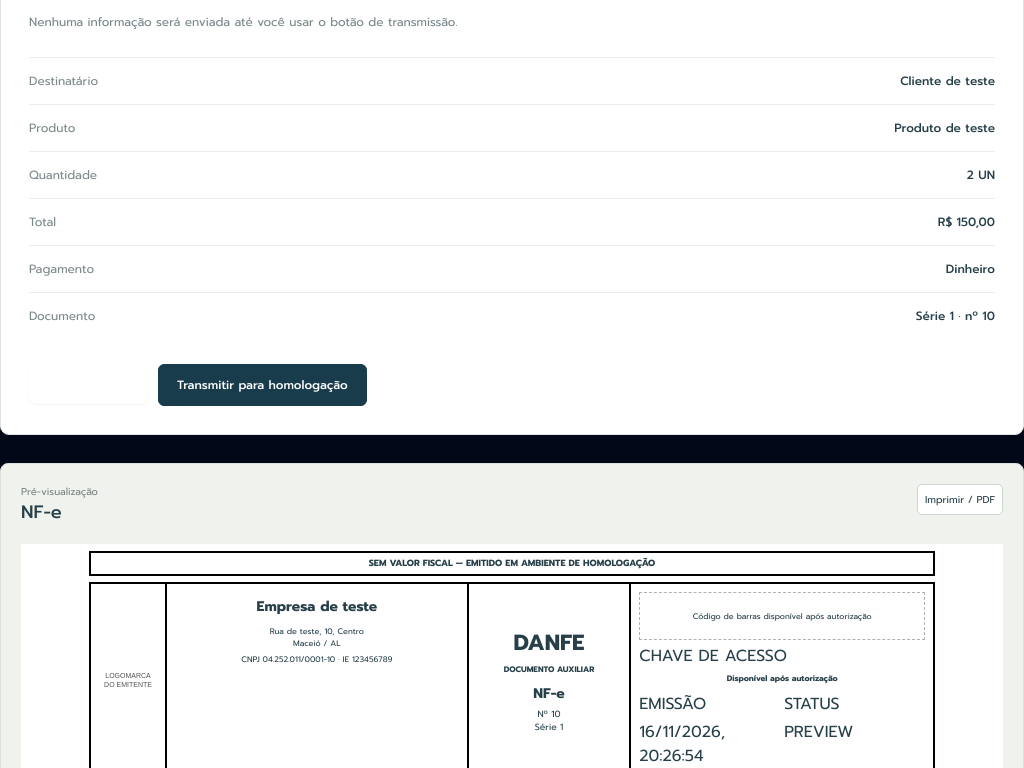
Test: preenchimento e contrato de emissão › bloqueia duplo envio e não recria o rascunho nem reenvia após autorização
(page scrolled)
Click the button "Transmitir para homologação". click: (262, 385)
box: [158,364,367,406]
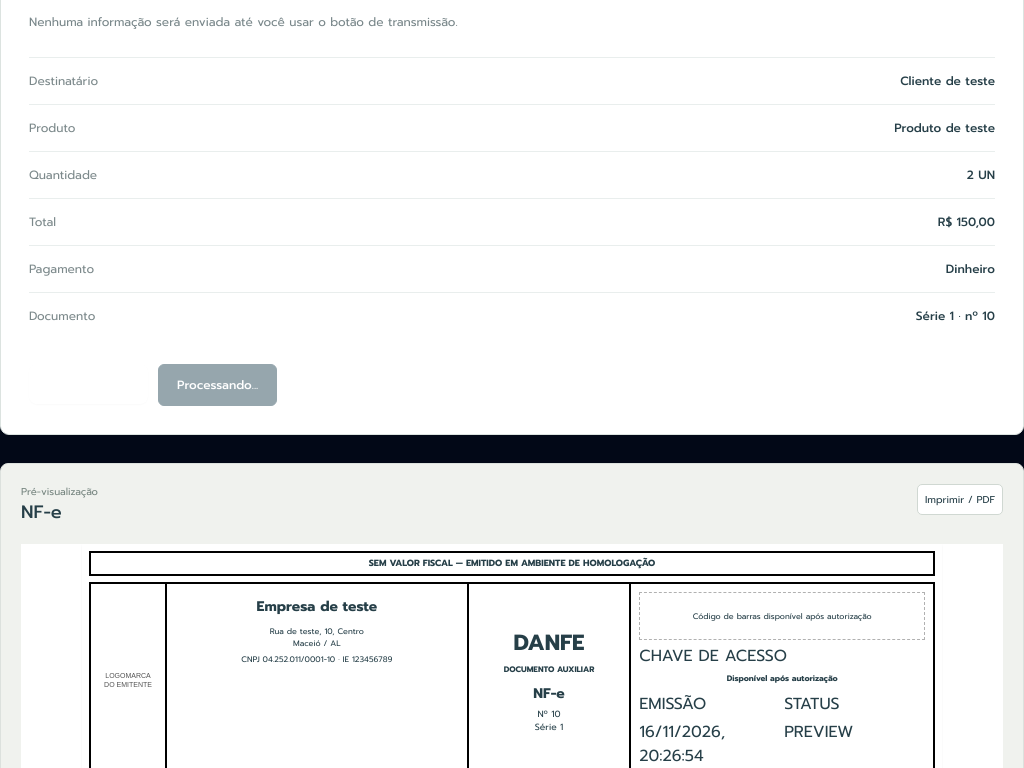
Click the button named "Transmitir para homologação". click: (218, 385)
box: [158,364,277,406]
(page scrolled)
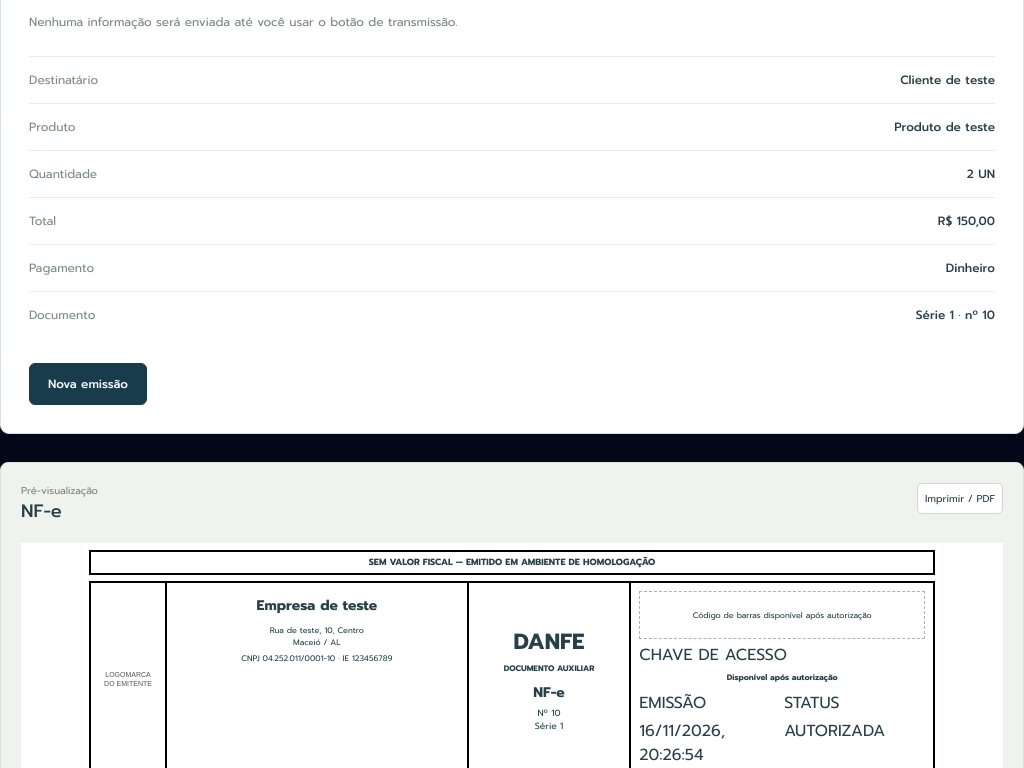
expect the button "Transmitir para homologação" is not shown: met
expect the button "Nova emissão" is shown: met, box [29,363,147,405]
